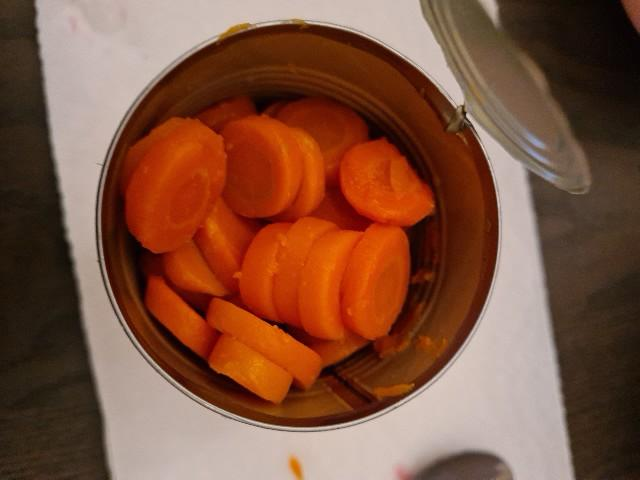kichen waste: (123, 97, 434, 403)
